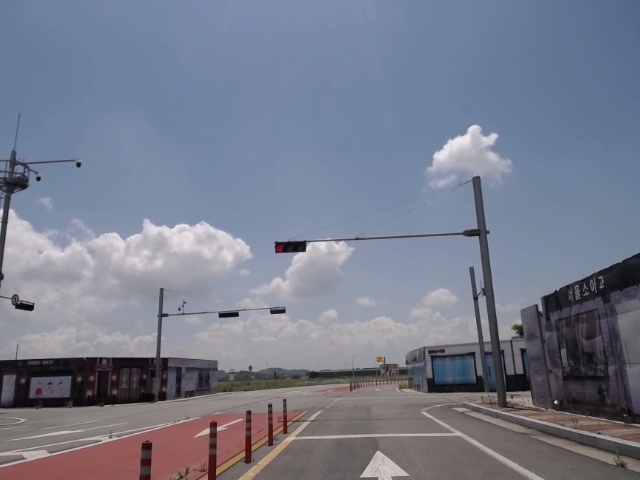red_3: (275, 241, 308, 253)
